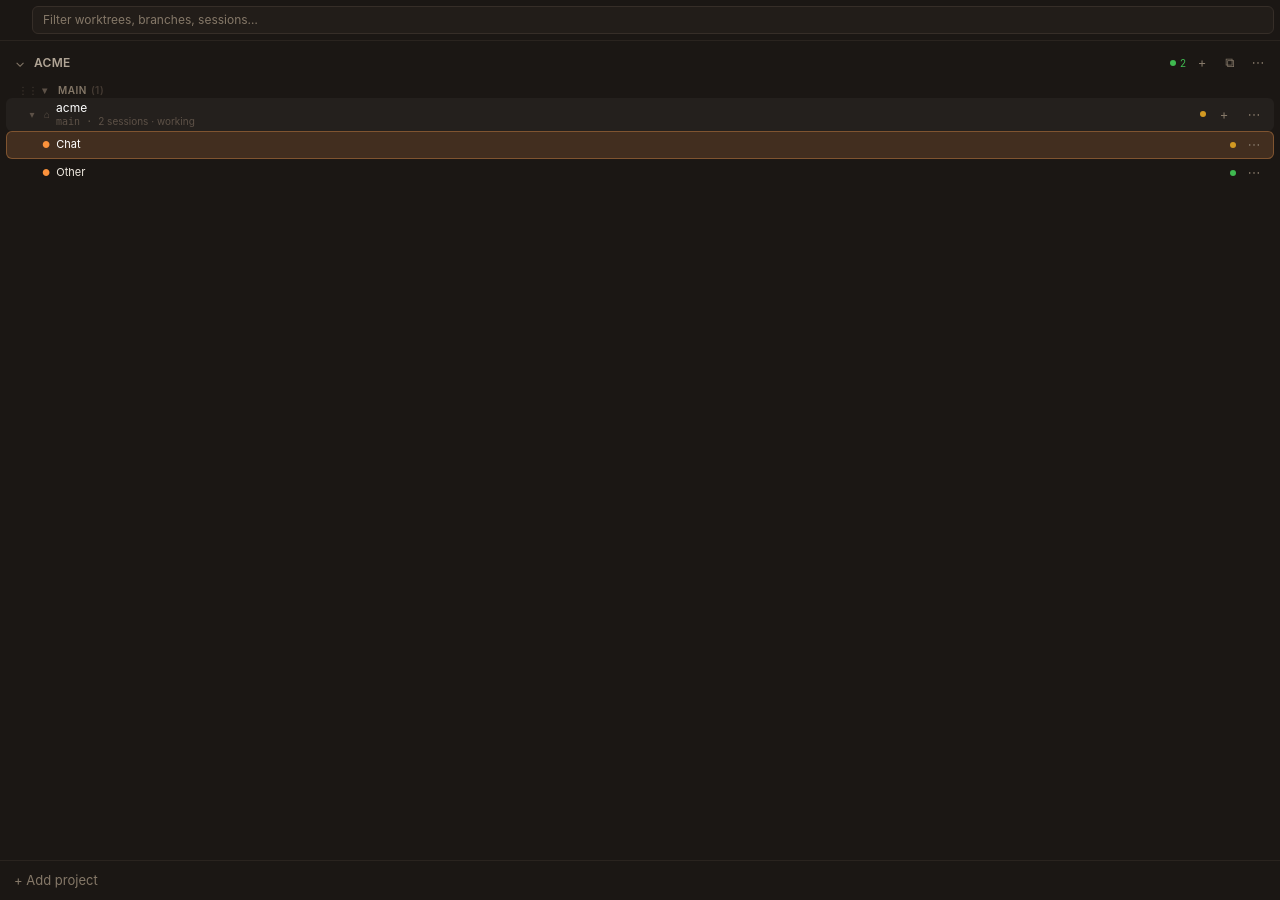
Scenario: the sidebar while a session waits › marks the session and its folded worktree as asking, ahead of working
Expected: the number of elements titled "Waiting for your answer" is 2, [1200,111,1206,117]; [1230,142,1236,148]
Expected: the number of elements titled "Working" is 2, [1170,60,1176,66]; [1230,170,1236,176]
Note: Folded, the row alone carries the most pressing status of what is inside.
What coordinates should you click on to do the following:
click the button named "Collapse worktree"
I would click on:
 (32, 114)
Its box is [26,107,38,122].
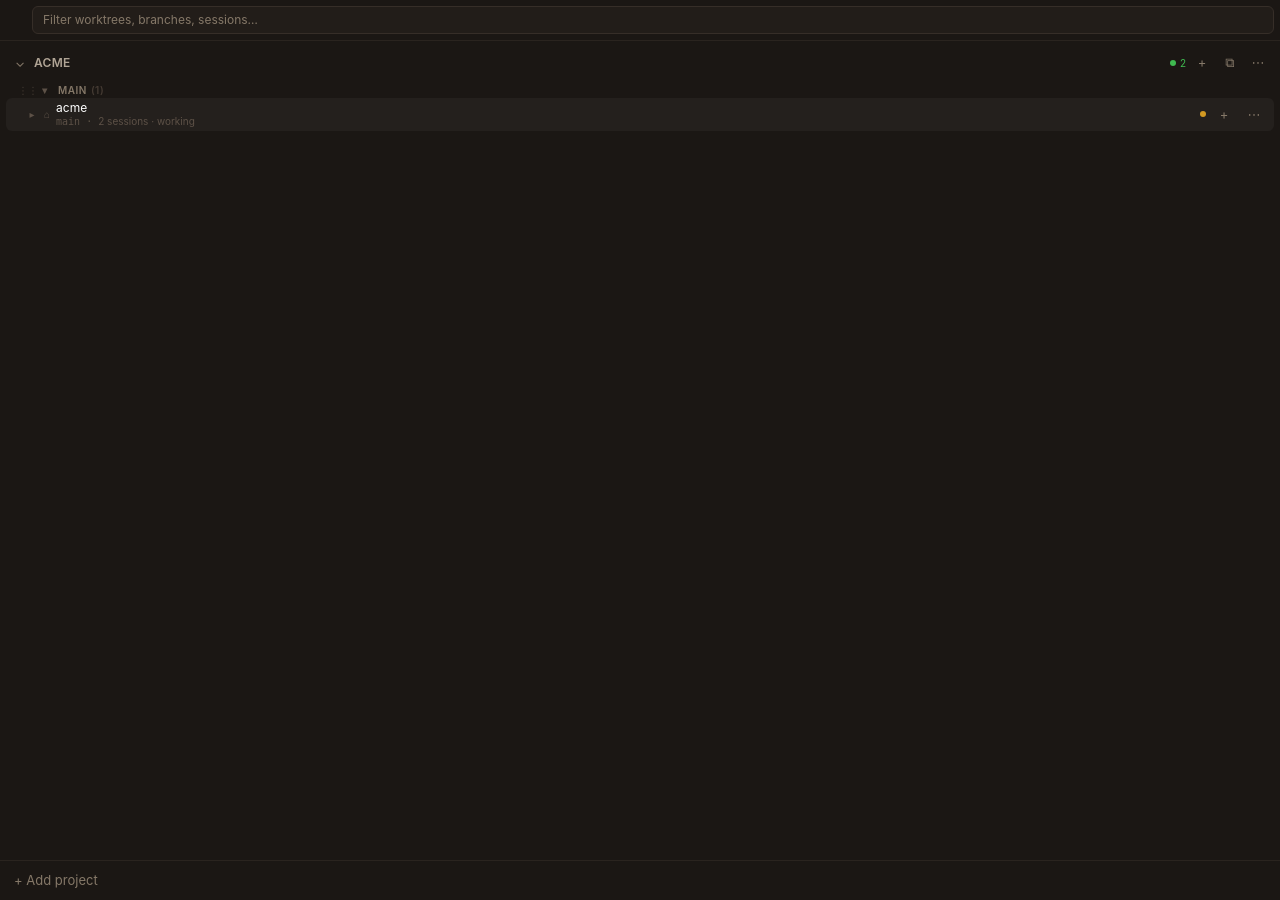
Expected: the number of elements titled "Working" is 1, [1170,60,1176,66]
Now the number of elements titled "Waiting for your answer" is 1, box [1200,111,1206,117]
